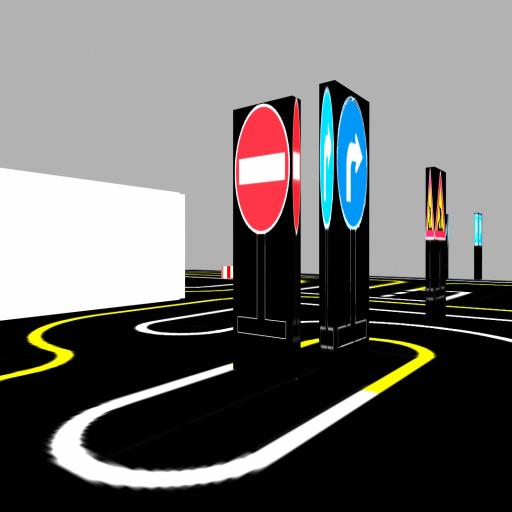Do Not Enter: (235, 104, 289, 234), (292, 99, 300, 234)
Right Turn: (337, 97, 367, 230), (319, 87, 335, 229)
